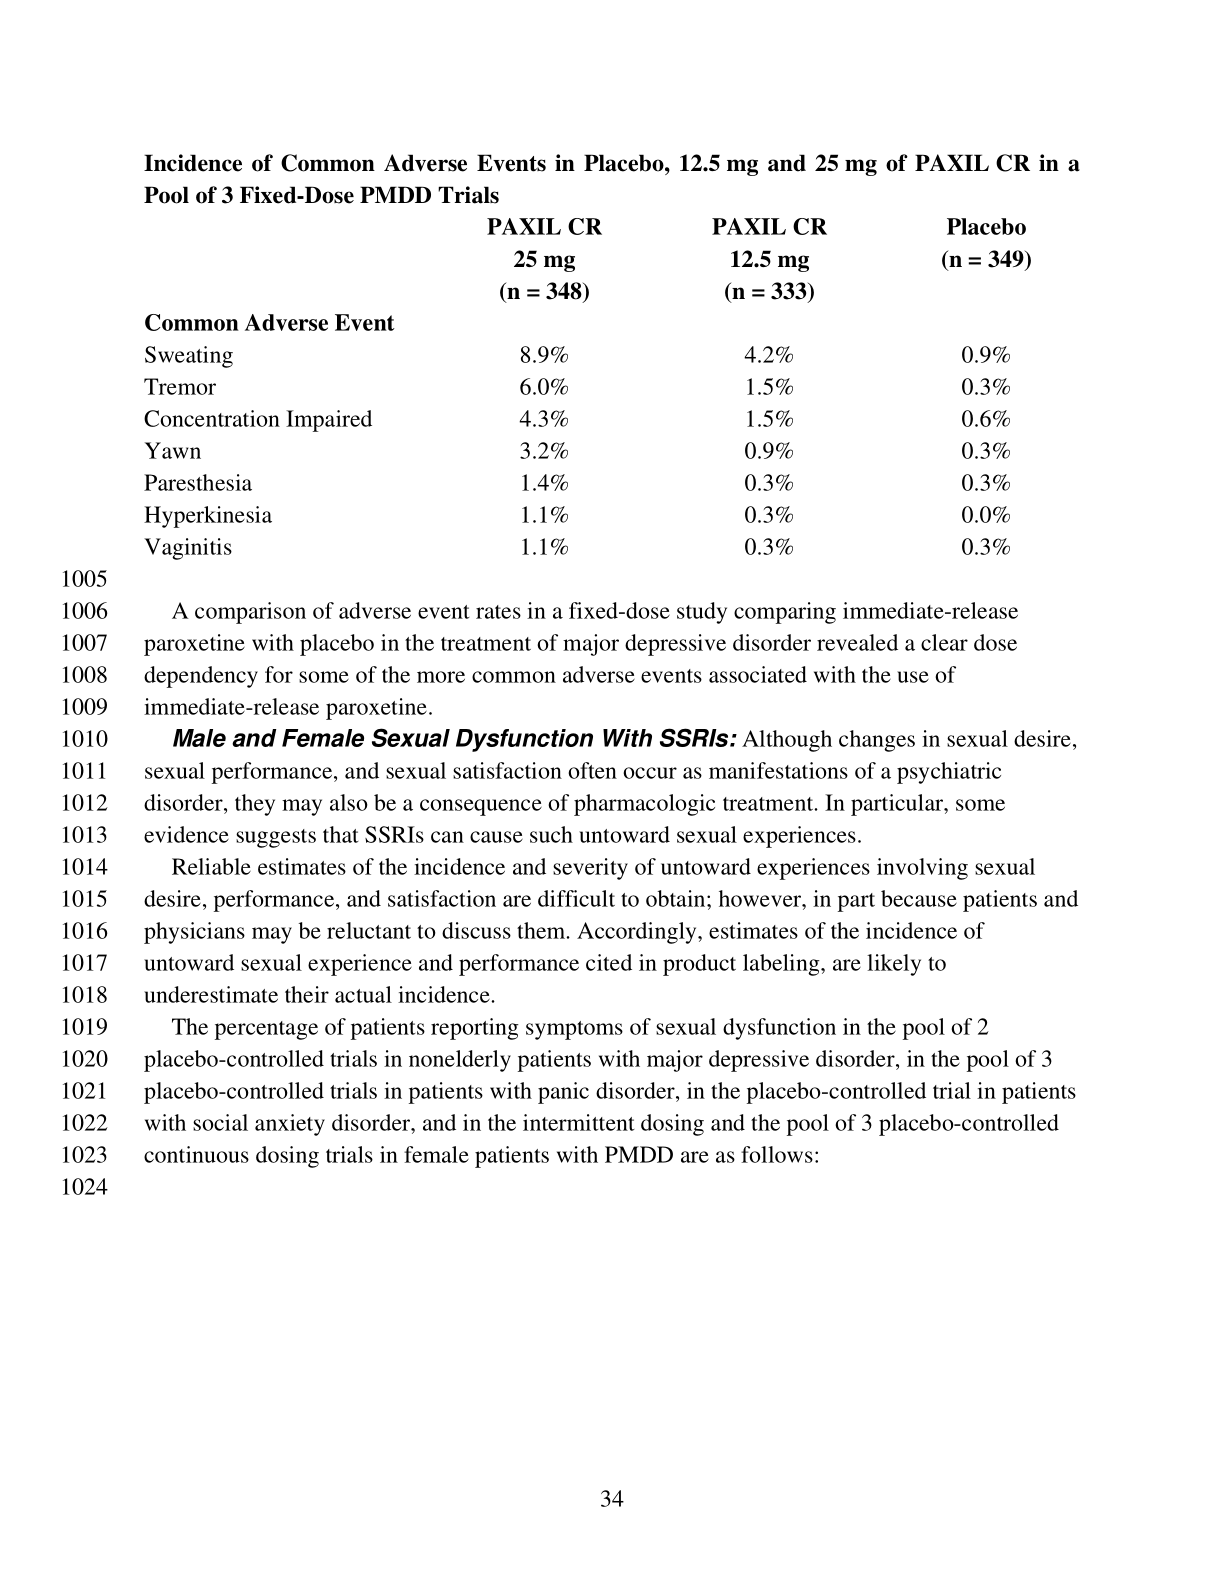nolines: (139, 216, 1032, 559)
